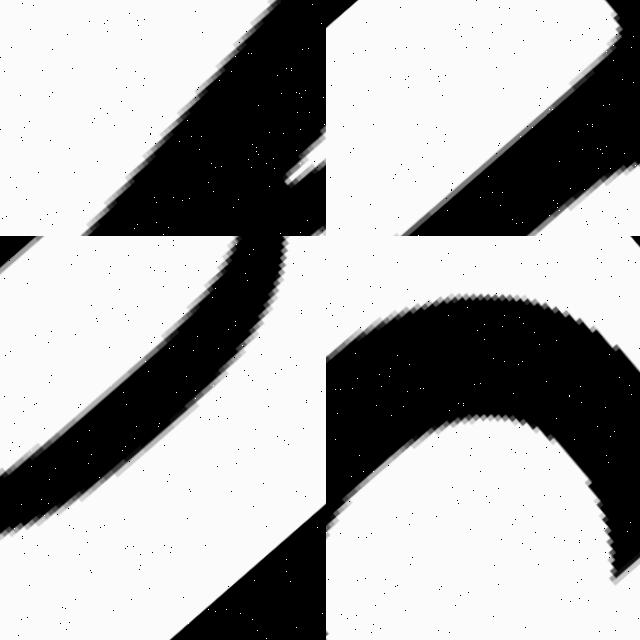0: (0, 236, 326, 627)
C: (326, 298, 640, 589)
R: (326, 0, 640, 236)
V: (0, 0, 326, 236)
